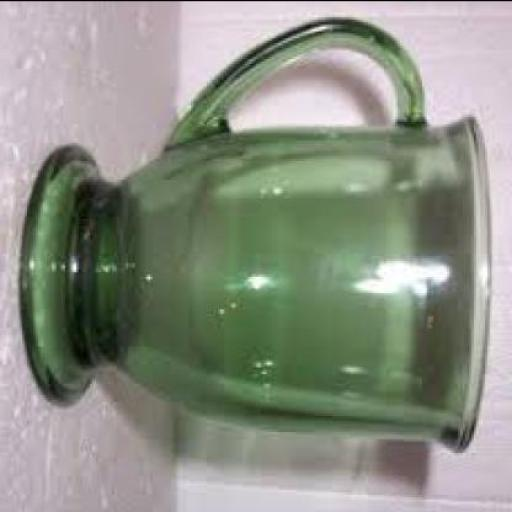glass: (20, 21, 494, 454)
